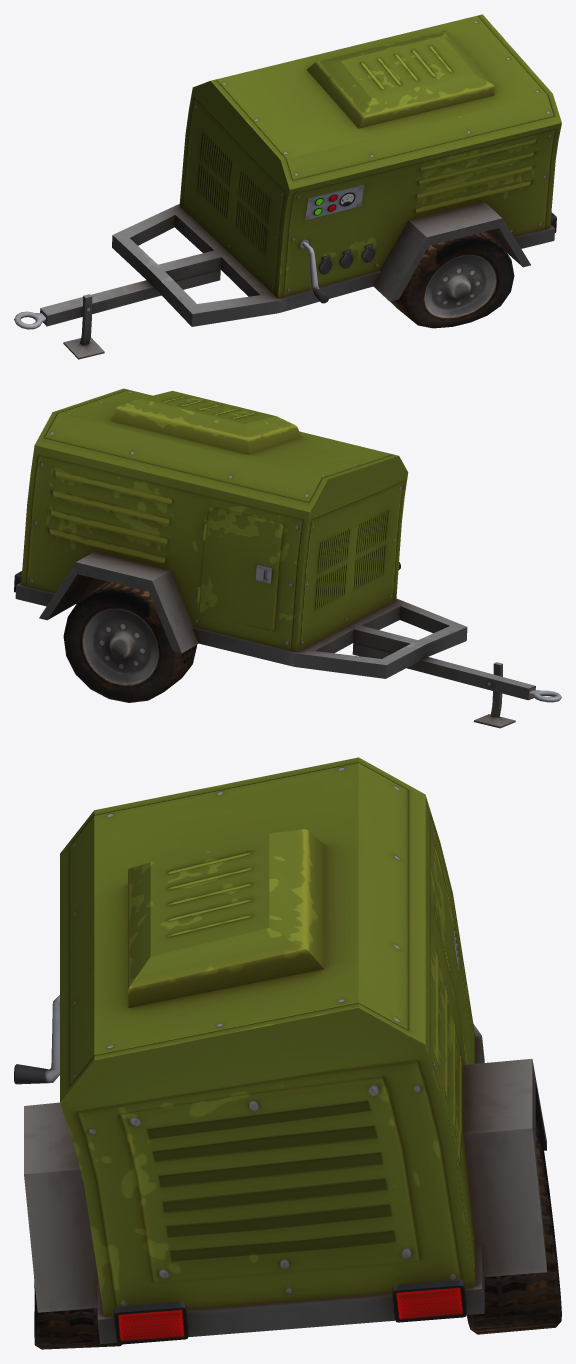
The model's file is TrailerGenerator01_2.FBX.
3 renders of one model, top to bottom at view 1: azimuth 30°, elevation 25°; view 2: azimuth 150°, elevation 25°; view 3: azimuth 270°, elevation 25°, orthographic. The views are drawn at different scales.
Parts seen in each view (by area): view 1: TrailerGenerator01_2; view 2: TrailerGenerator01_2; view 3: TrailerGenerator01_2.
Boxes of the visible parts, x1,y1,x2,y2 form: TrailerGenerator01_2: [14, 14, 561, 359]; TrailerGenerator01_2: [14, 388, 561, 728]; TrailerGenerator01_2: [14, 757, 561, 1349].
Size of what is drawn, in the model's own units: 3.19 by 1.44 by 1.63.
